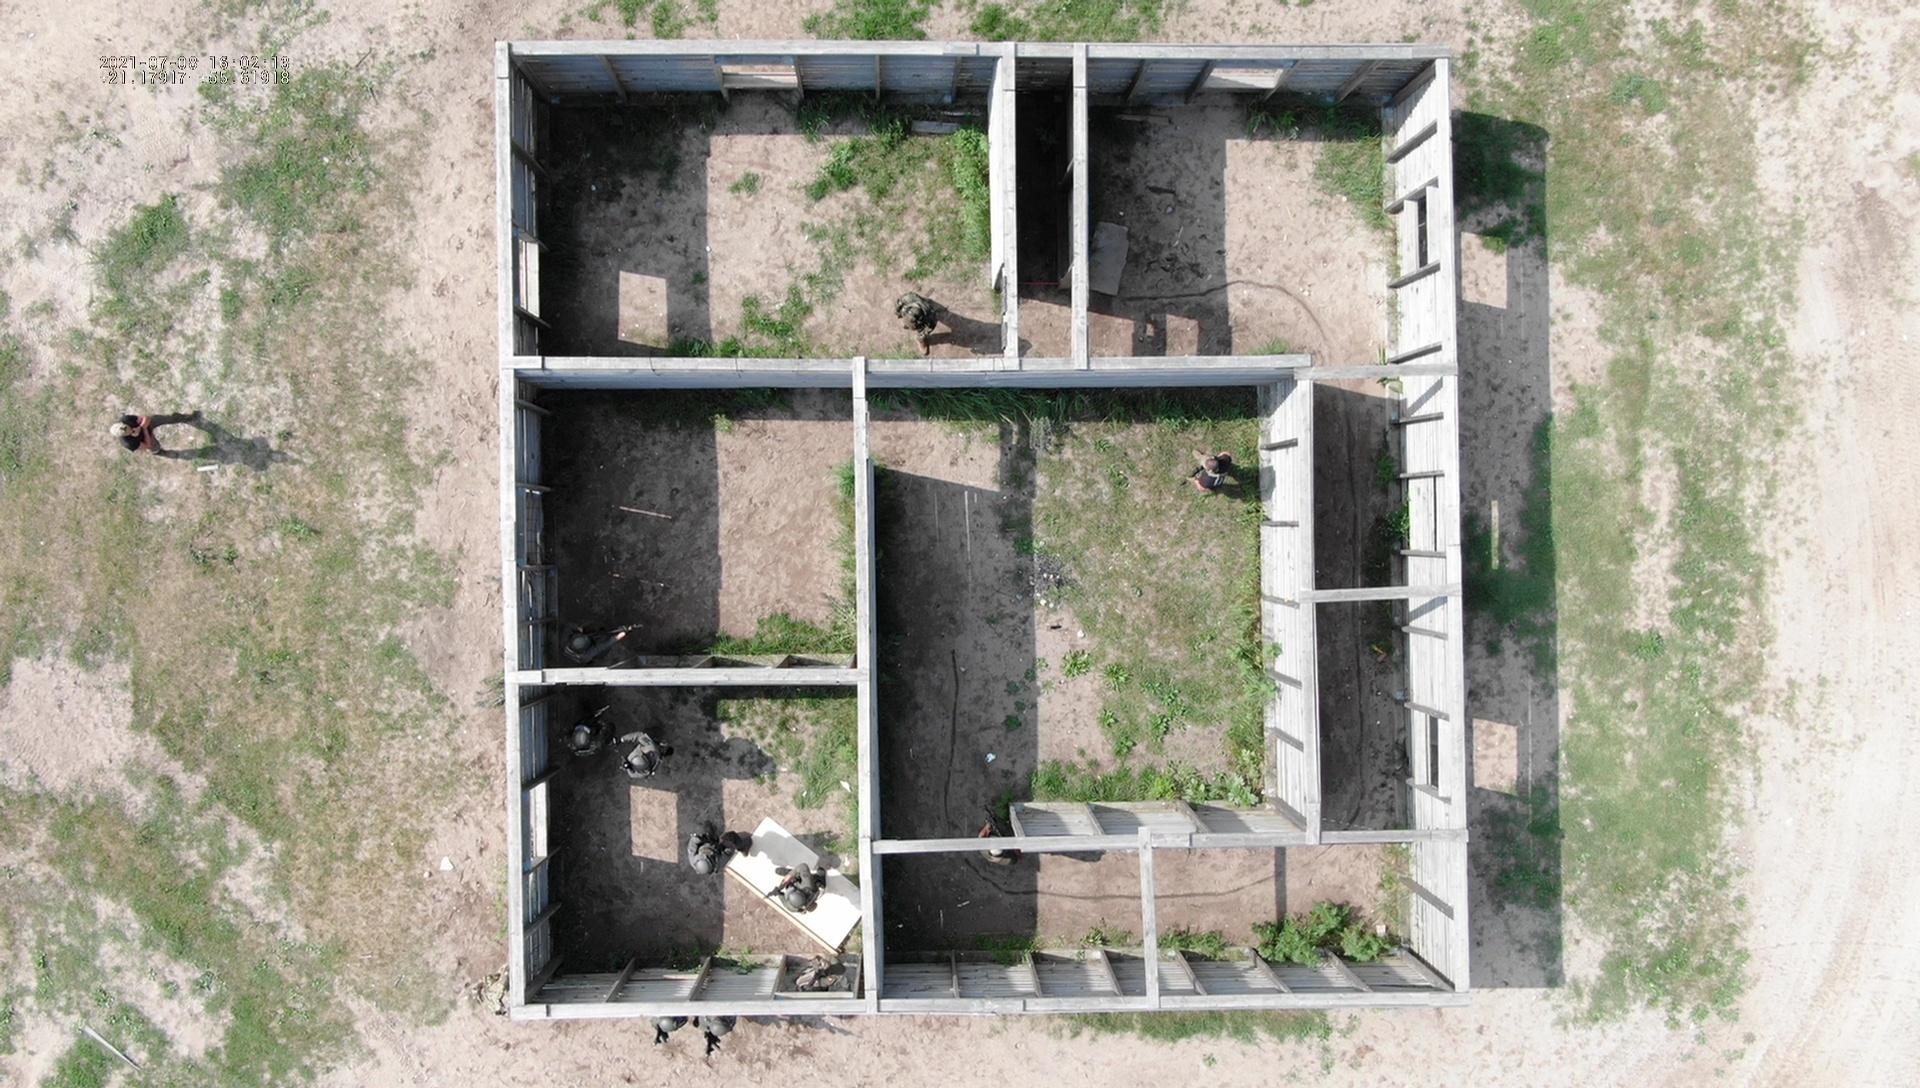Soldier: (90, 404, 208, 466), (775, 918, 855, 1004), (563, 698, 624, 785), (550, 608, 642, 663), (770, 853, 845, 918), (684, 814, 746, 885), (617, 725, 682, 793), (1193, 440, 1242, 518), (903, 286, 955, 344), (695, 1017, 749, 1056), (645, 1014, 692, 1044)
